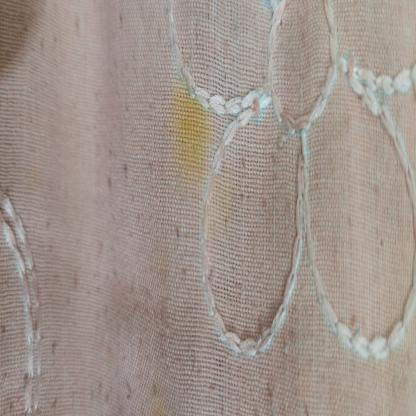spot: (163, 68, 213, 199), (219, 166, 238, 228)
